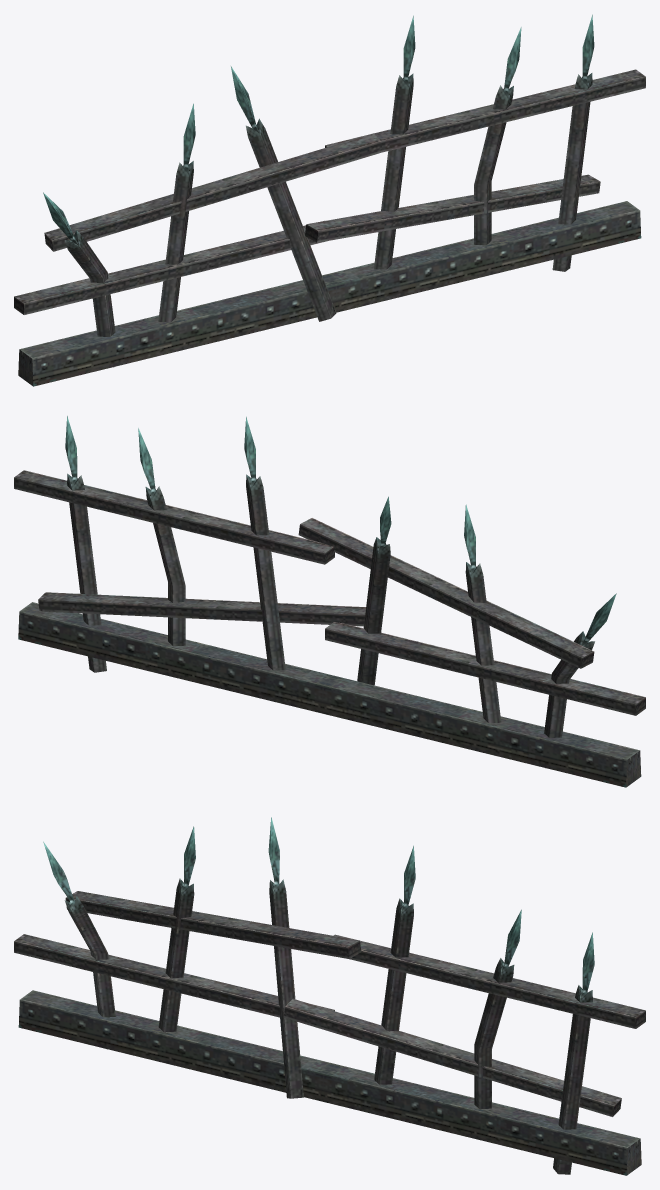
The model's file is 5st_wall_004.fbx.
The picture shows the model from 3 angles, top to bottom: view 1: azimuth 30°, elevation 25°; view 2: azimuth 150°, elevation 25°; view 3: azimuth 330°, elevation 25°; orthographic projection.
Parts seen in each view (by area): view 1: 5st_wall_004; view 2: 5st_wall_004; view 3: 5st_wall_004.
Boxes of the visible parts, <box> form: 5st_wall_004: <box>14,14,645,386</box>; 5st_wall_004: <box>14,416,645,787</box>; 5st_wall_004: <box>14,817,645,1175</box>.
Size of the model in its own units: 24.68 by 11.04 by 2.76.
